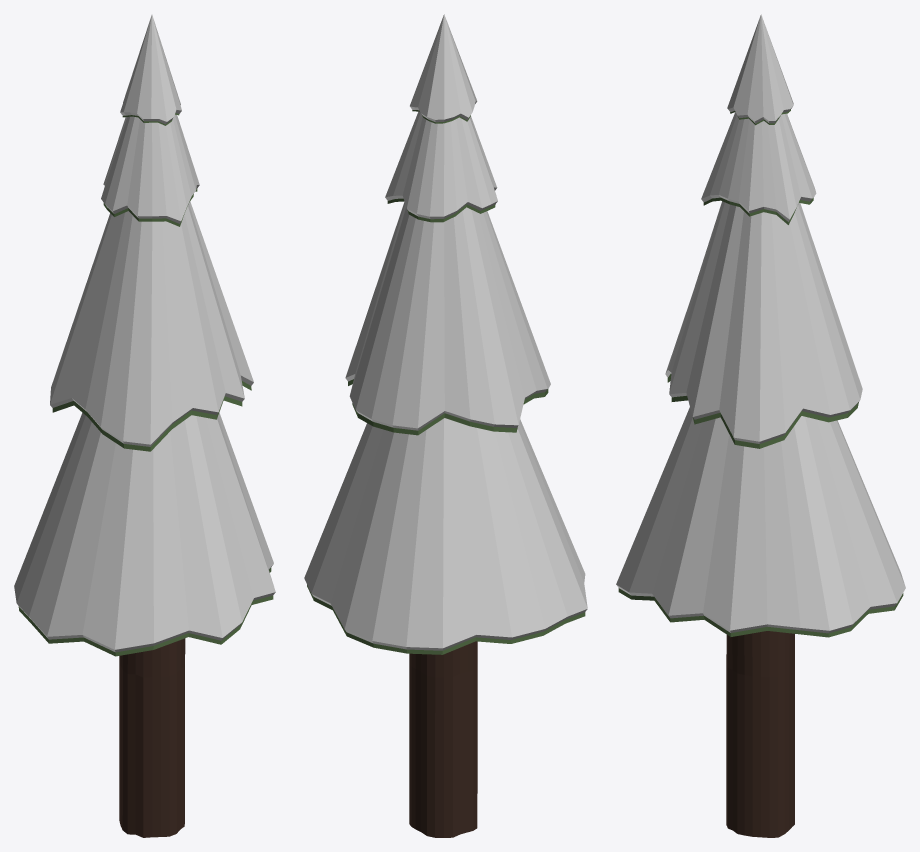
Rendered from tree_snow1.glb.
3 views of the same model, side by side, from view 1: azimuth 30°, elevation 25°; view 2: azimuth 150°, elevation 25°; view 3: azimuth 270°, elevation 25° (orthographic).
Parts seen in each view (by area): view 1: Cylinder; view 2: Cylinder; view 3: Cylinder.
Boxes of the visible parts, x1,y1,x2,y2 form: Cylinder: [14, 14, 275, 837]; Cylinder: [304, 14, 587, 837]; Cylinder: [616, 14, 905, 837].
Size of the model in its own units: 1.51 by 5.07 by 1.64.
